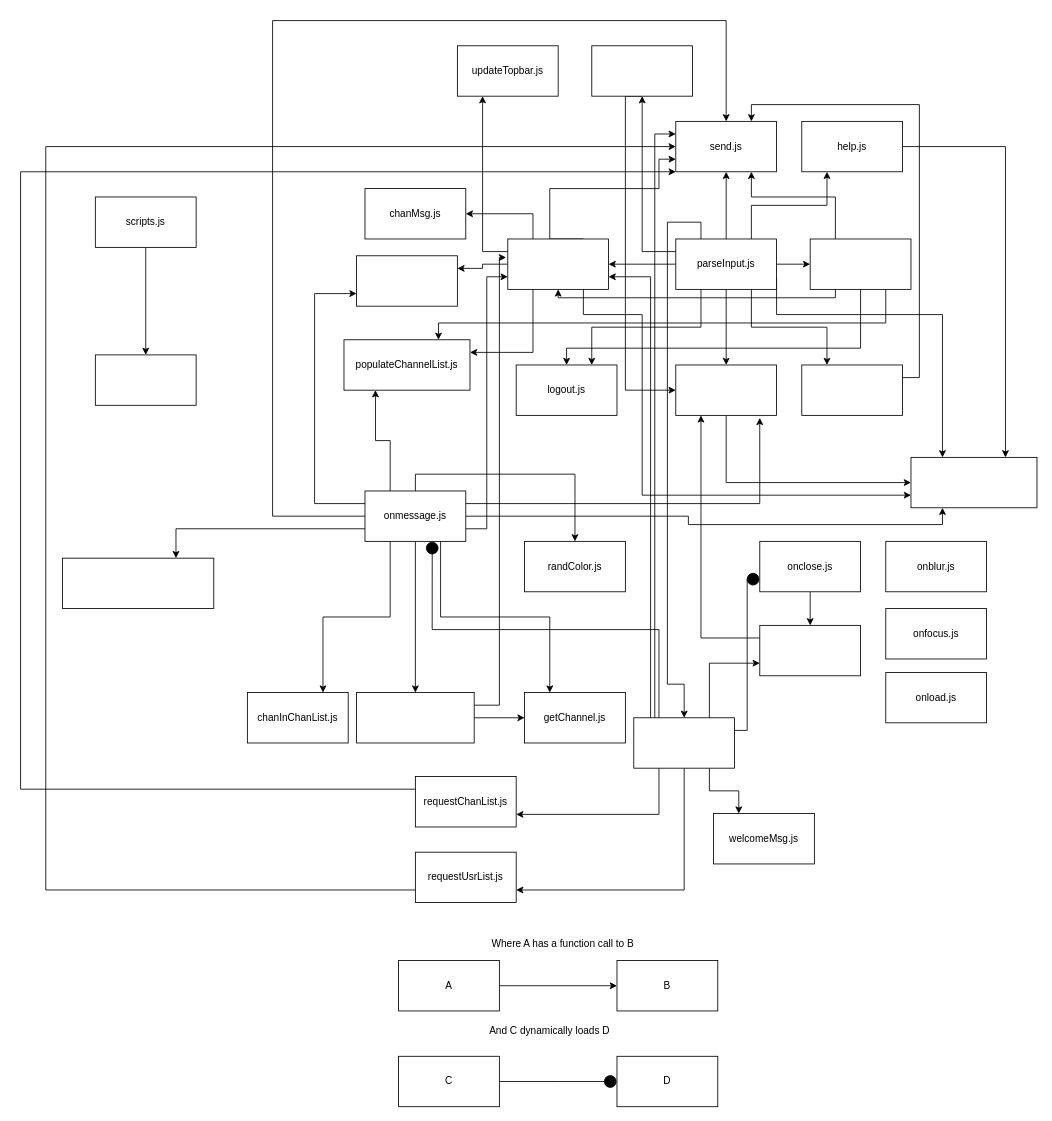
Image size: 1052x1121. Some labels were removed from this diagram. The shapes that lost their labels are listed below. From the top down, each one's centre as x and y in pixels, then its label:
At point 642,70: "toggleTheme.js".
At point 406,280: "channelObj.js".
At point 558,263: "joinChannel.js".
At point 860,263: "part.js".
At point 145,379: "printMsg.js".
At point 726,389: "errorHandler.js".
At point 852,389: "invite.js".
At point 973,482: "printChannelMessages.js".
At point 138,583: "populateOnlineChannelList.js".
At point 810,650: "disconnect.js".
At point 415,717: "populateOnlineList.js".
At point 684,742: "login.js".
